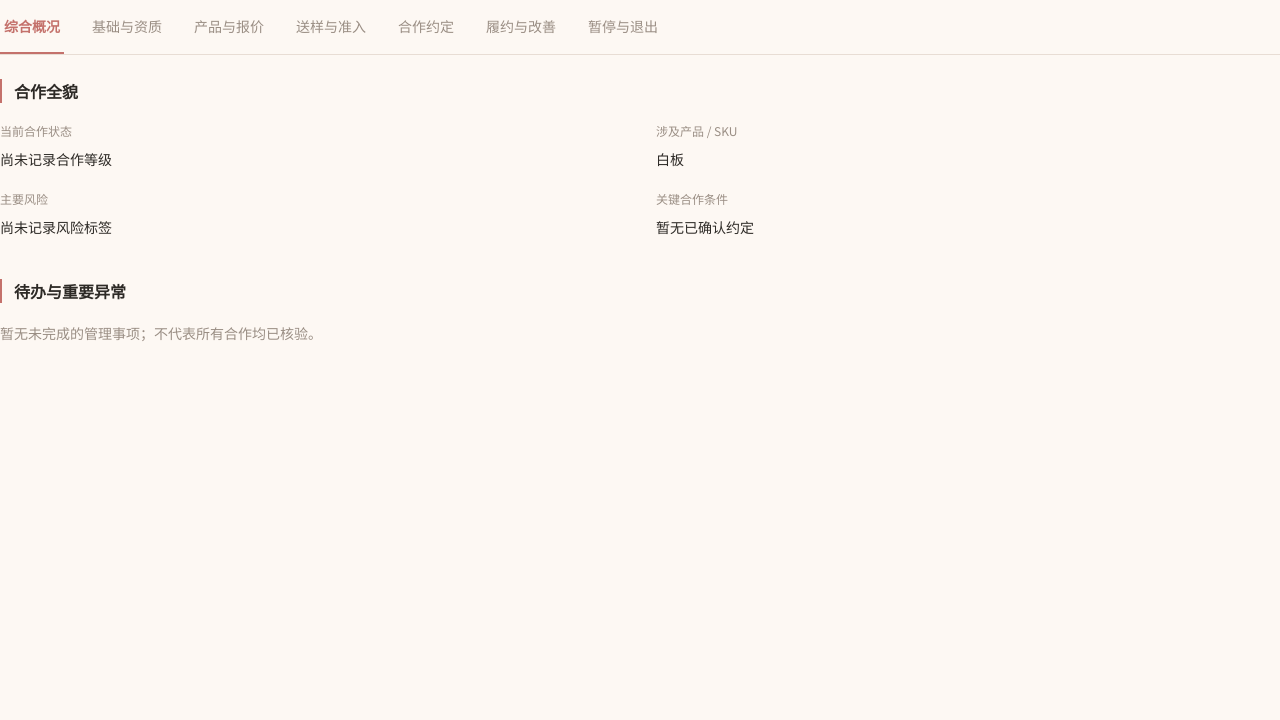
Test: provides seven business-specific tabs and scopes sample records to this supplier
Expected: the button "综合概况" is shown, [0, 0, 64, 54]
Expected: the button "产品与报价" is shown, [190, 0, 268, 54]
Click the button "基础与资质" at (127, 27), box [88, 0, 166, 54]
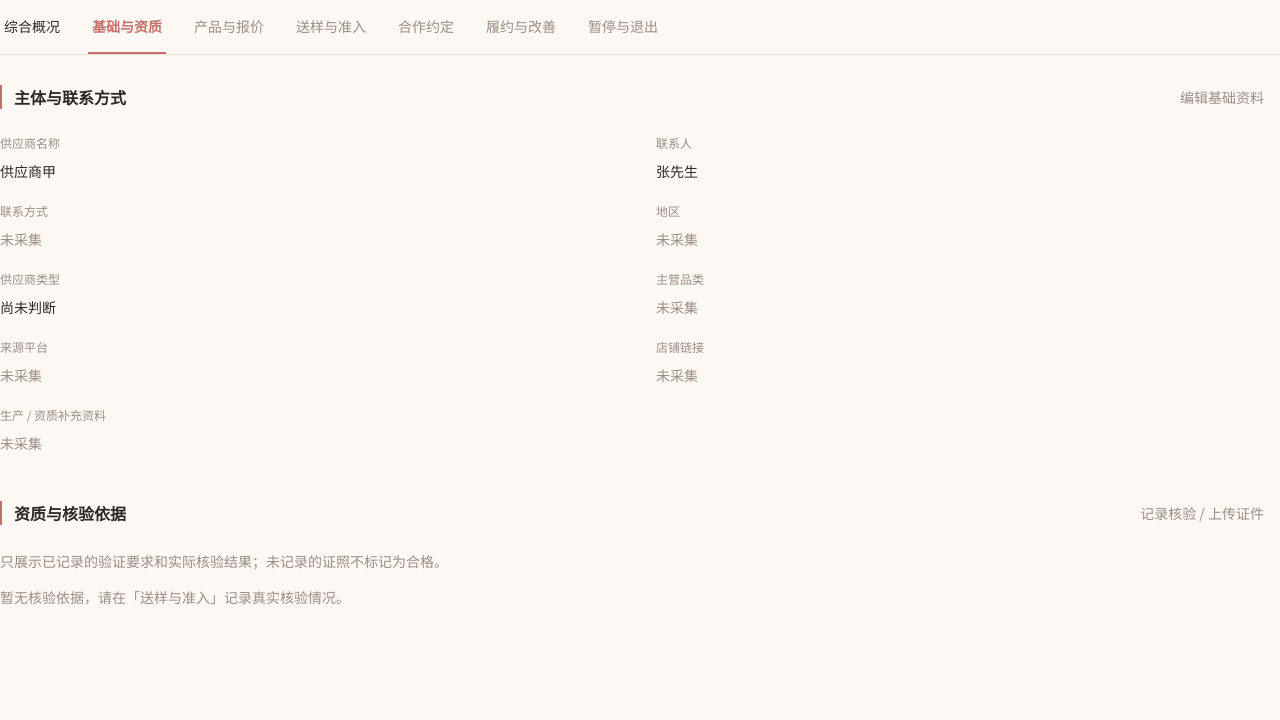
Now the text "张先生" is shown, box [656, 161, 698, 181]
Click the button "送样与准入" at (331, 27), box [292, 0, 370, 54]
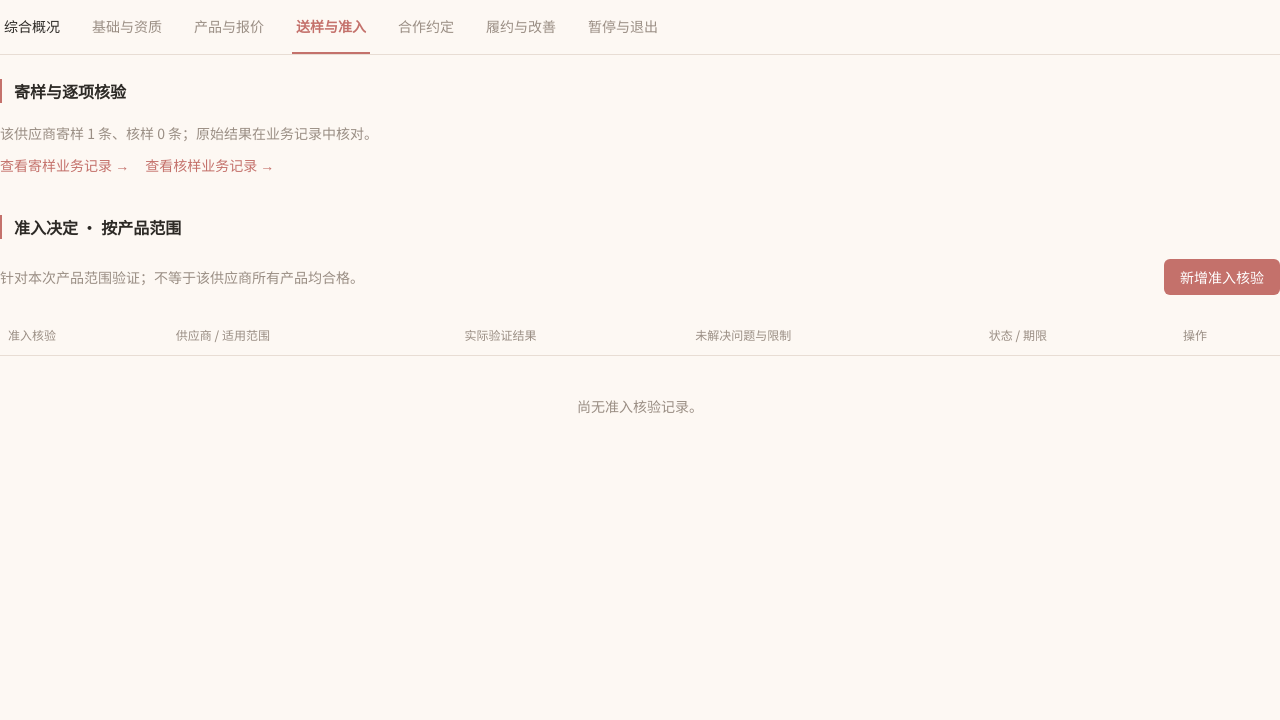
Click the button "暂停与退出" at (623, 27), box [584, 0, 662, 54]
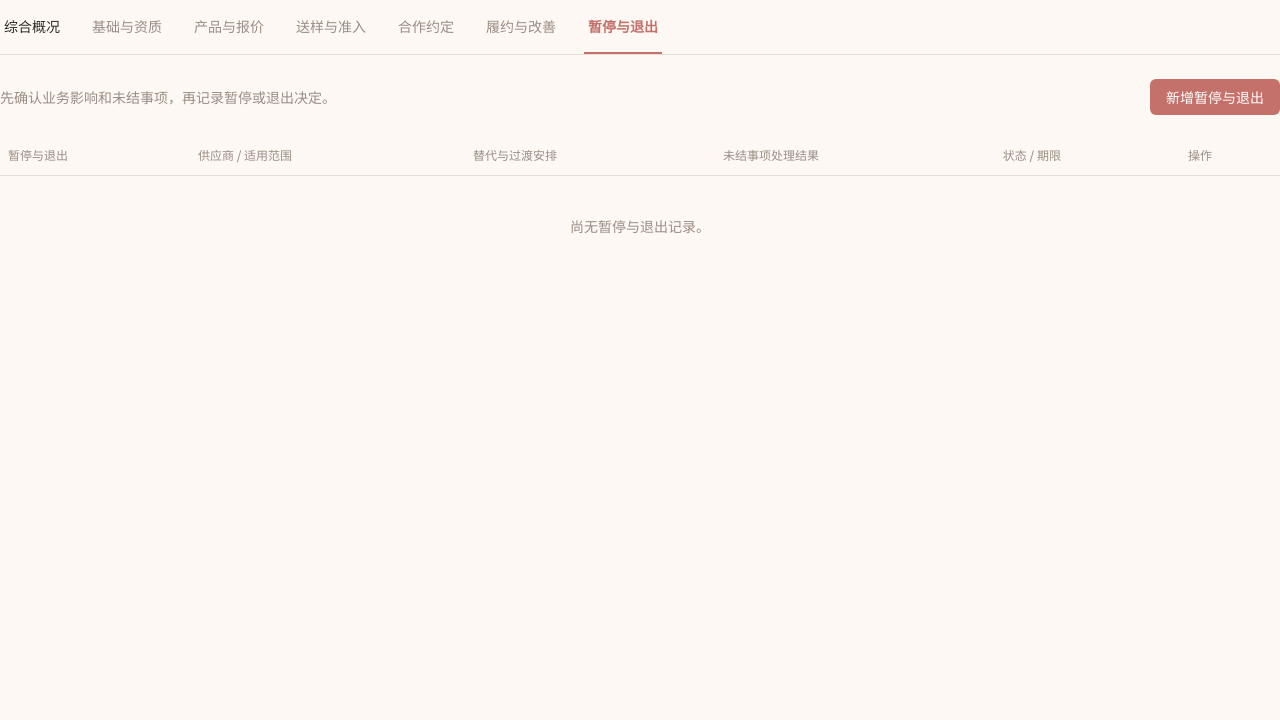
Click the button "新增暂停与退出" at (1215, 97), box [1150, 79, 1279, 115]
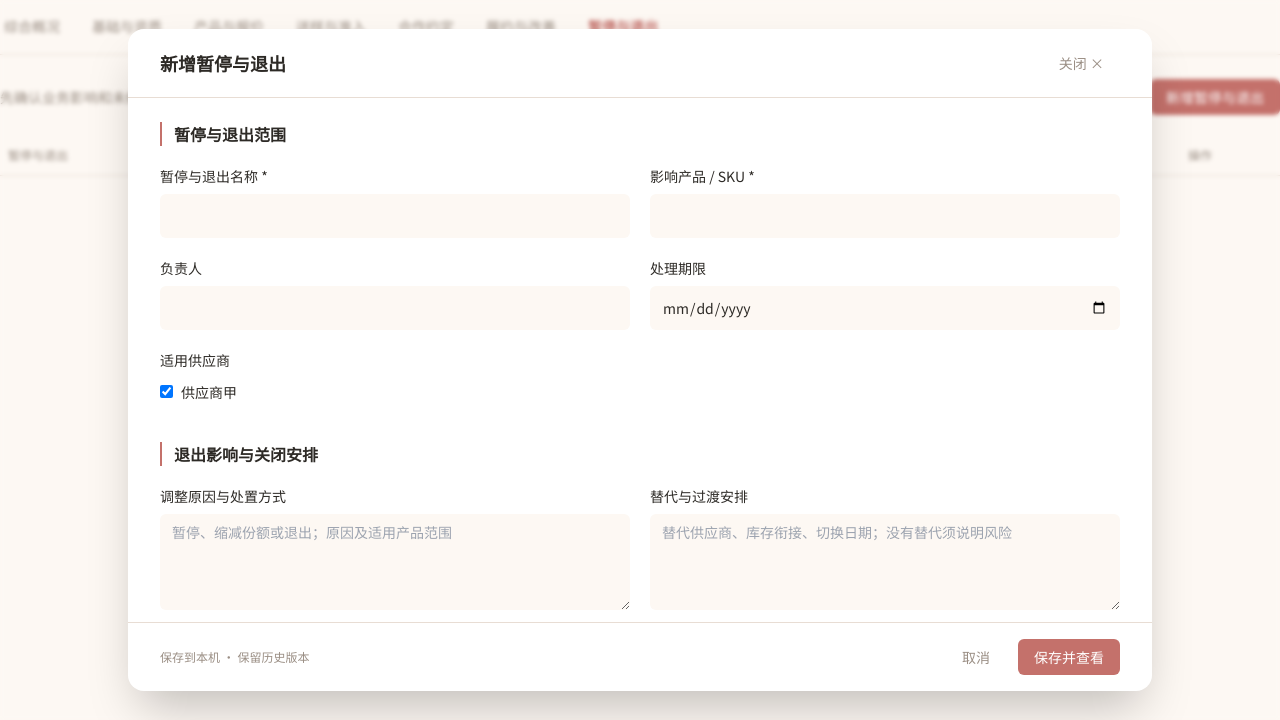
Now the text box labelled "替代与过渡安排" is shown, box [650, 514, 1120, 610]
